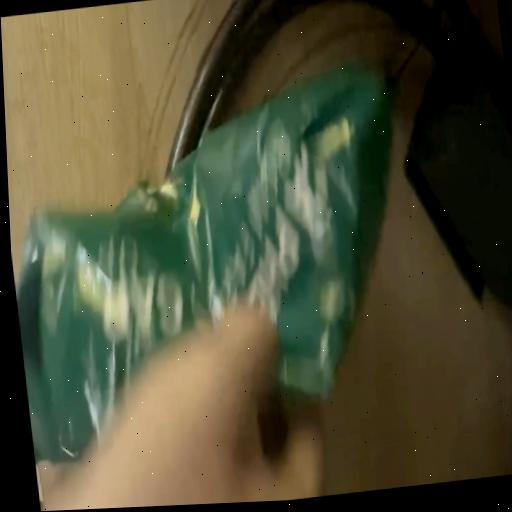cafe_xay: (15, 69, 390, 462)
